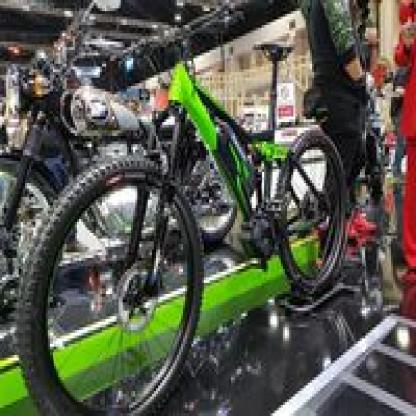Bike: (14, 0, 353, 416)
